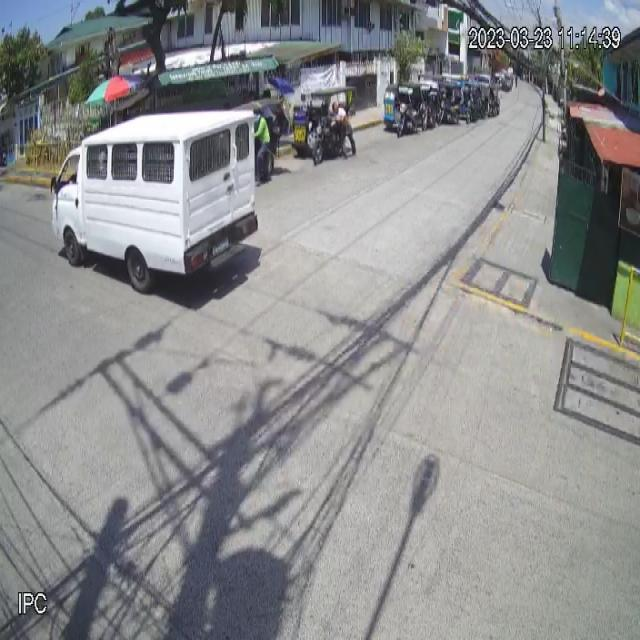Van: (54, 104, 260, 288)
